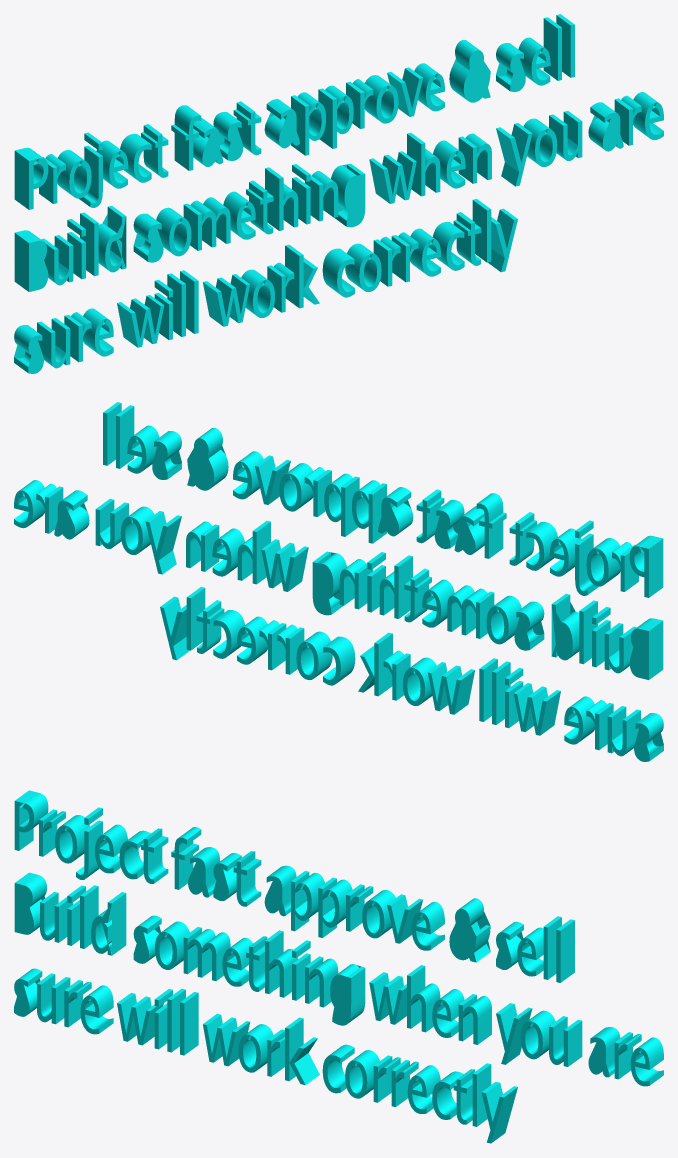
3 views of the same model, one above another, from view 1: azimuth 30°, elevation 25°; view 2: azimuth 150°, elevation 25°; view 3: azimuth 330°, elevation 25° (orthographic).
Visible parts, largest first — view 1: typeMesh1; view 2: typeMesh1; view 3: typeMesh1.
Part boxes in pixels (box(x1,y1,x2,y2)): typeMesh1: box(14, 14, 663, 373); typeMesh1: box(14, 402, 663, 761); typeMesh1: box(14, 790, 663, 1143).
Size of the model in its own units: 8.22 by 2.85 by 0.3207.
